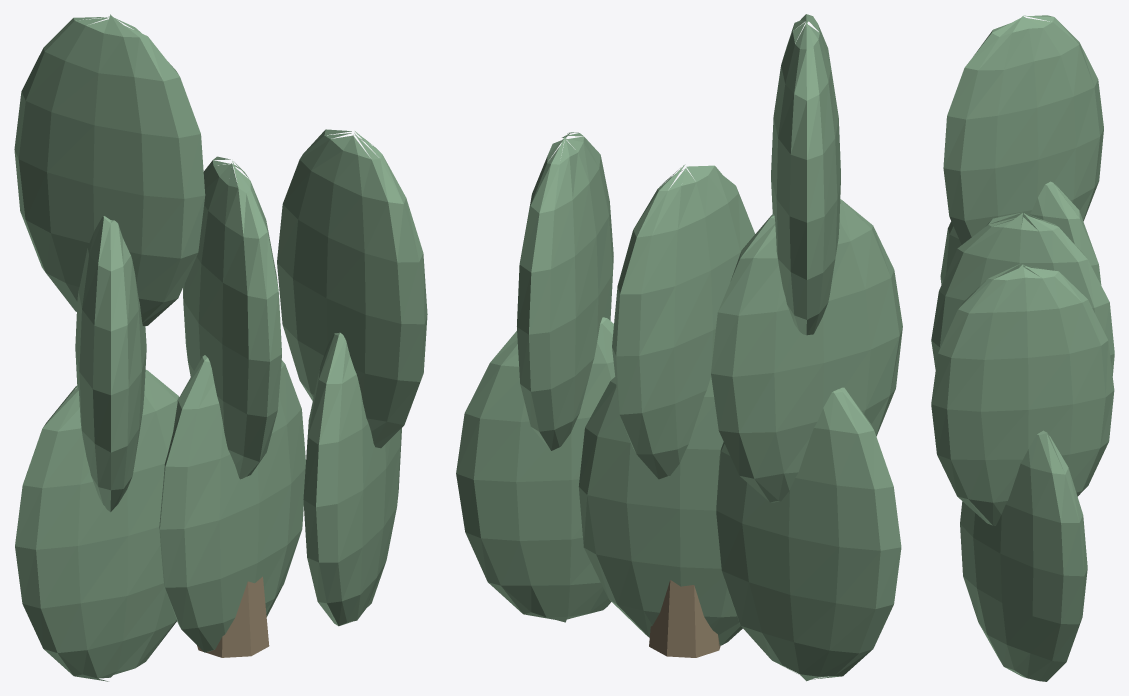
File: desert-canyons-and-oases-prickly-pear-ebfeaa29__20989.glb
3 renders of one model, left to right at view 1: azimuth 30°, elevation 25°; view 2: azimuth 150°, elevation 25°; view 3: azimuth 270°, elevation 25°, orthographic. The views are drawn at different scales.
Visible parts, largest first — view 1: prickly-pear; view 2: prickly-pear; view 3: prickly-pear.
Boxes of the visible parts, x1,y1,x2,y2 form: prickly-pear: (14, 14, 427, 681); prickly-pear: (456, 14, 902, 681); prickly-pear: (931, 15, 1114, 681).
Bounding box in the file's own units: 0.9863 × 1.53 × 0.4487.
